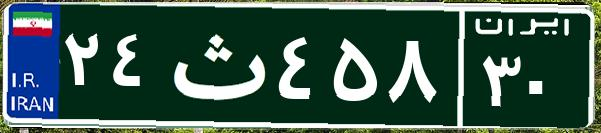0: (525, 38, 570, 115)
2: (57, 26, 110, 107)
3: (475, 38, 525, 113)
4: (273, 28, 330, 110), (110, 28, 158, 105)
5: (330, 28, 385, 110)
8: (385, 28, 445, 110)
ث: (158, 15, 273, 115)
